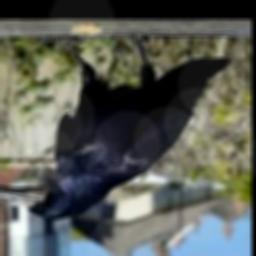Crow: (0, 34, 230, 222)
